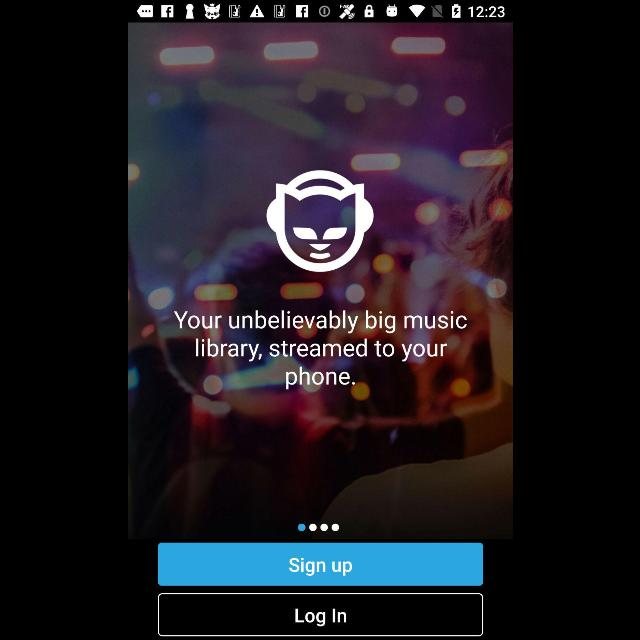backgroundimage: (128, 22, 512, 640)
image: (265, 170, 373, 272)
pageindicator: (297, 524, 339, 532)
text: (172, 310, 468, 392)
textbutton: (158, 542, 482, 586), (158, 594, 482, 636)
uppertaskbar: (128, 1, 512, 23)
